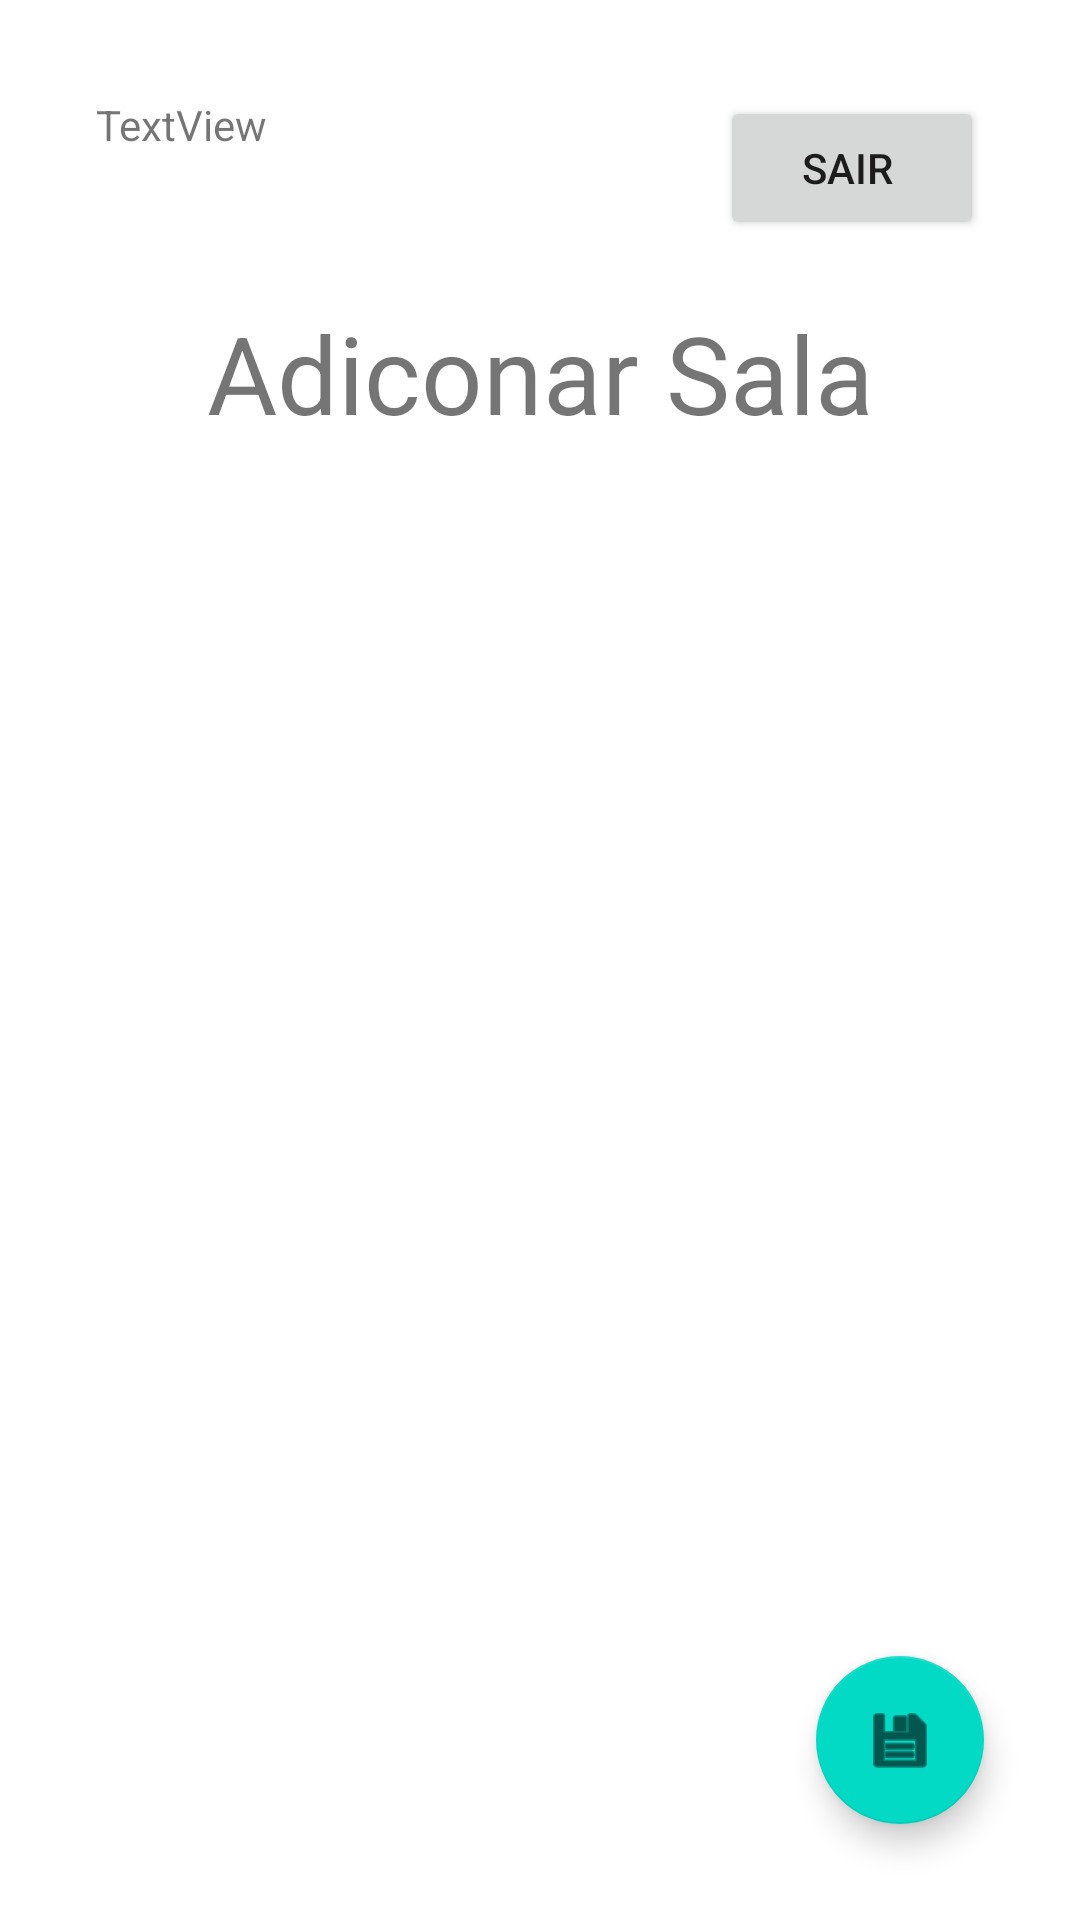

Named icons in this screenshot (1080 x 1920) and their centers, point (x, y):
save: point (900, 1740)
